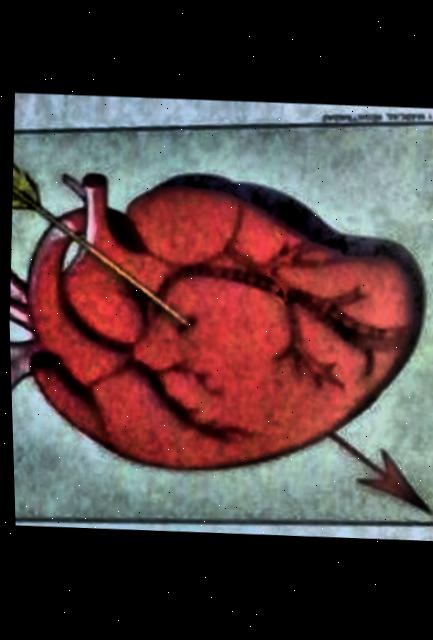El Corazon: (7, 123, 433, 524)
